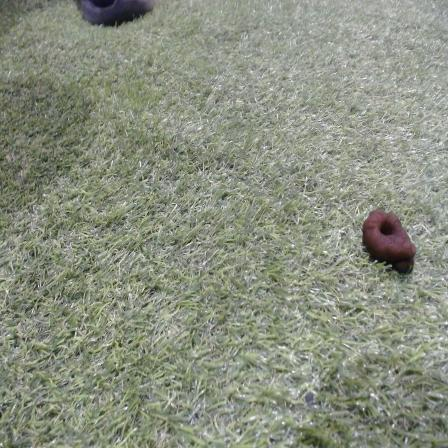dog-poop: (362, 207, 420, 266)
